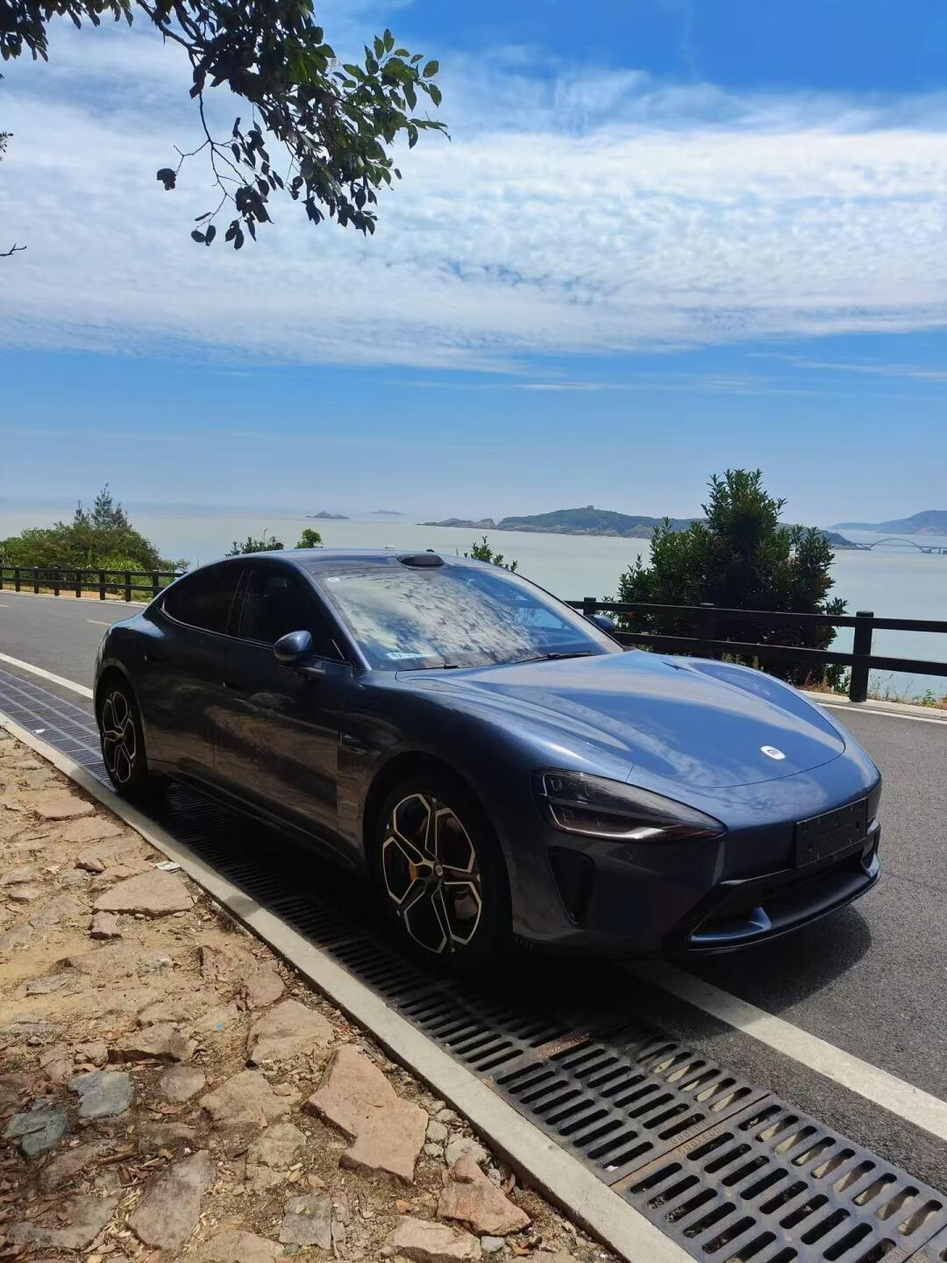su7: (76, 542, 890, 961)
